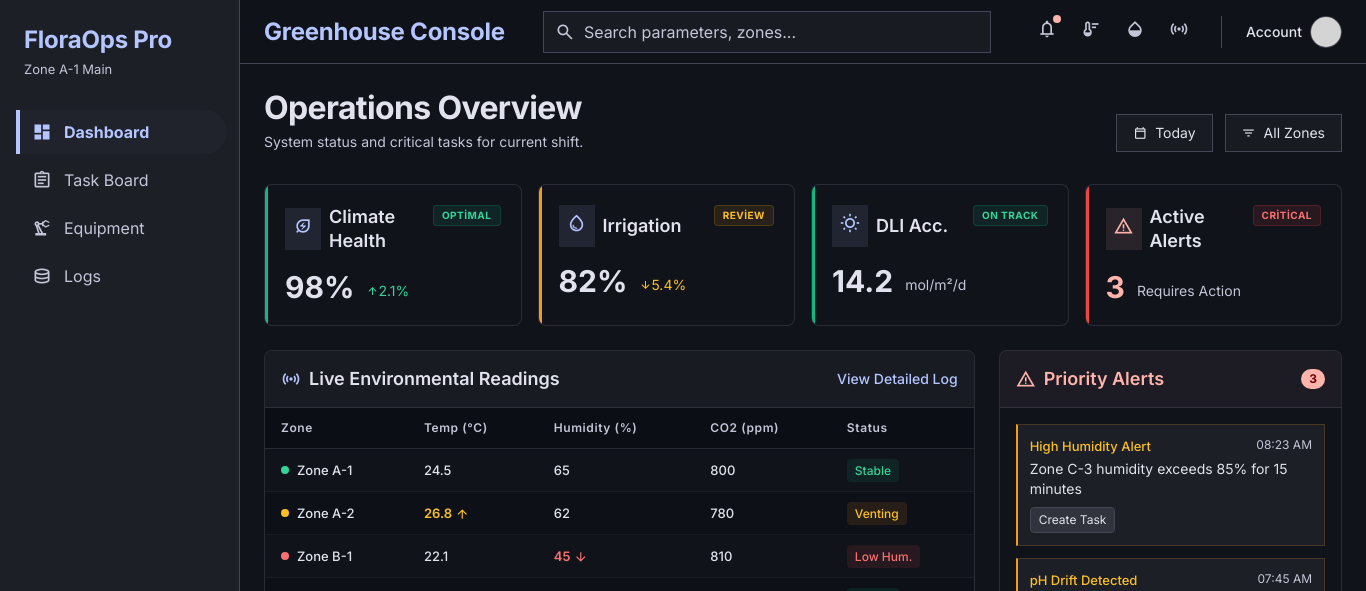
Test: App Shell › navigates to Logs when clicked
Click the text "Logs". click: (82,276)
box: [64,264,101,288]
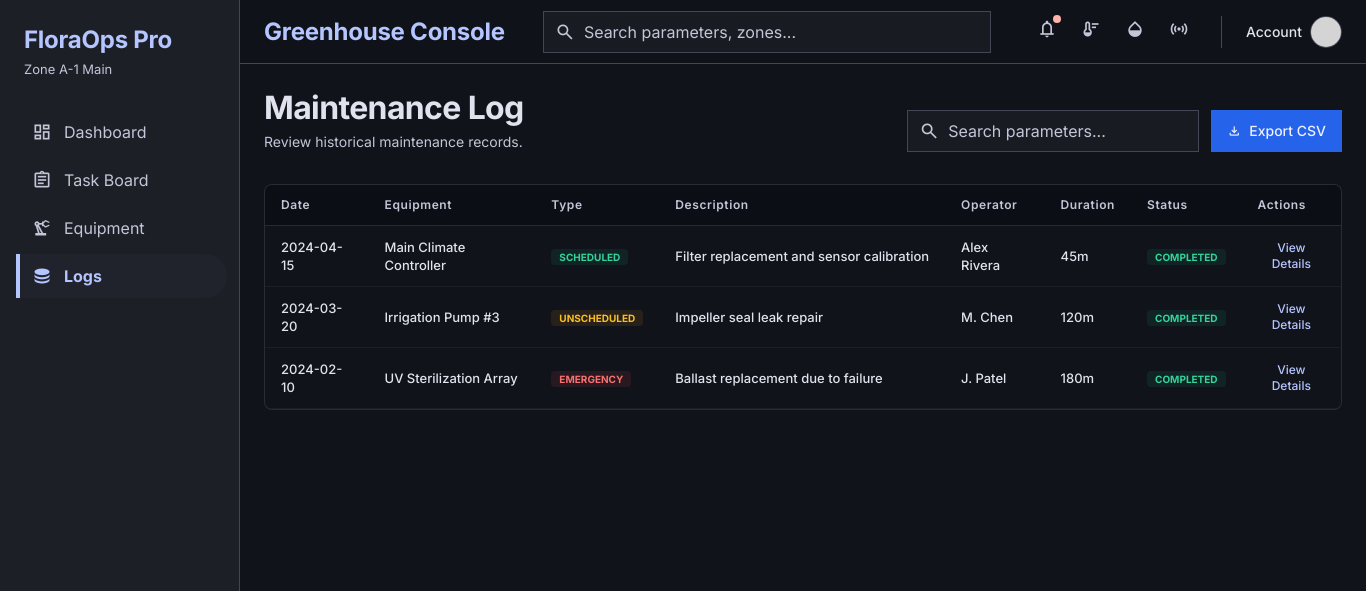
Check: the heading "Maintenance Log" is shown, box [264,88,524,128]
